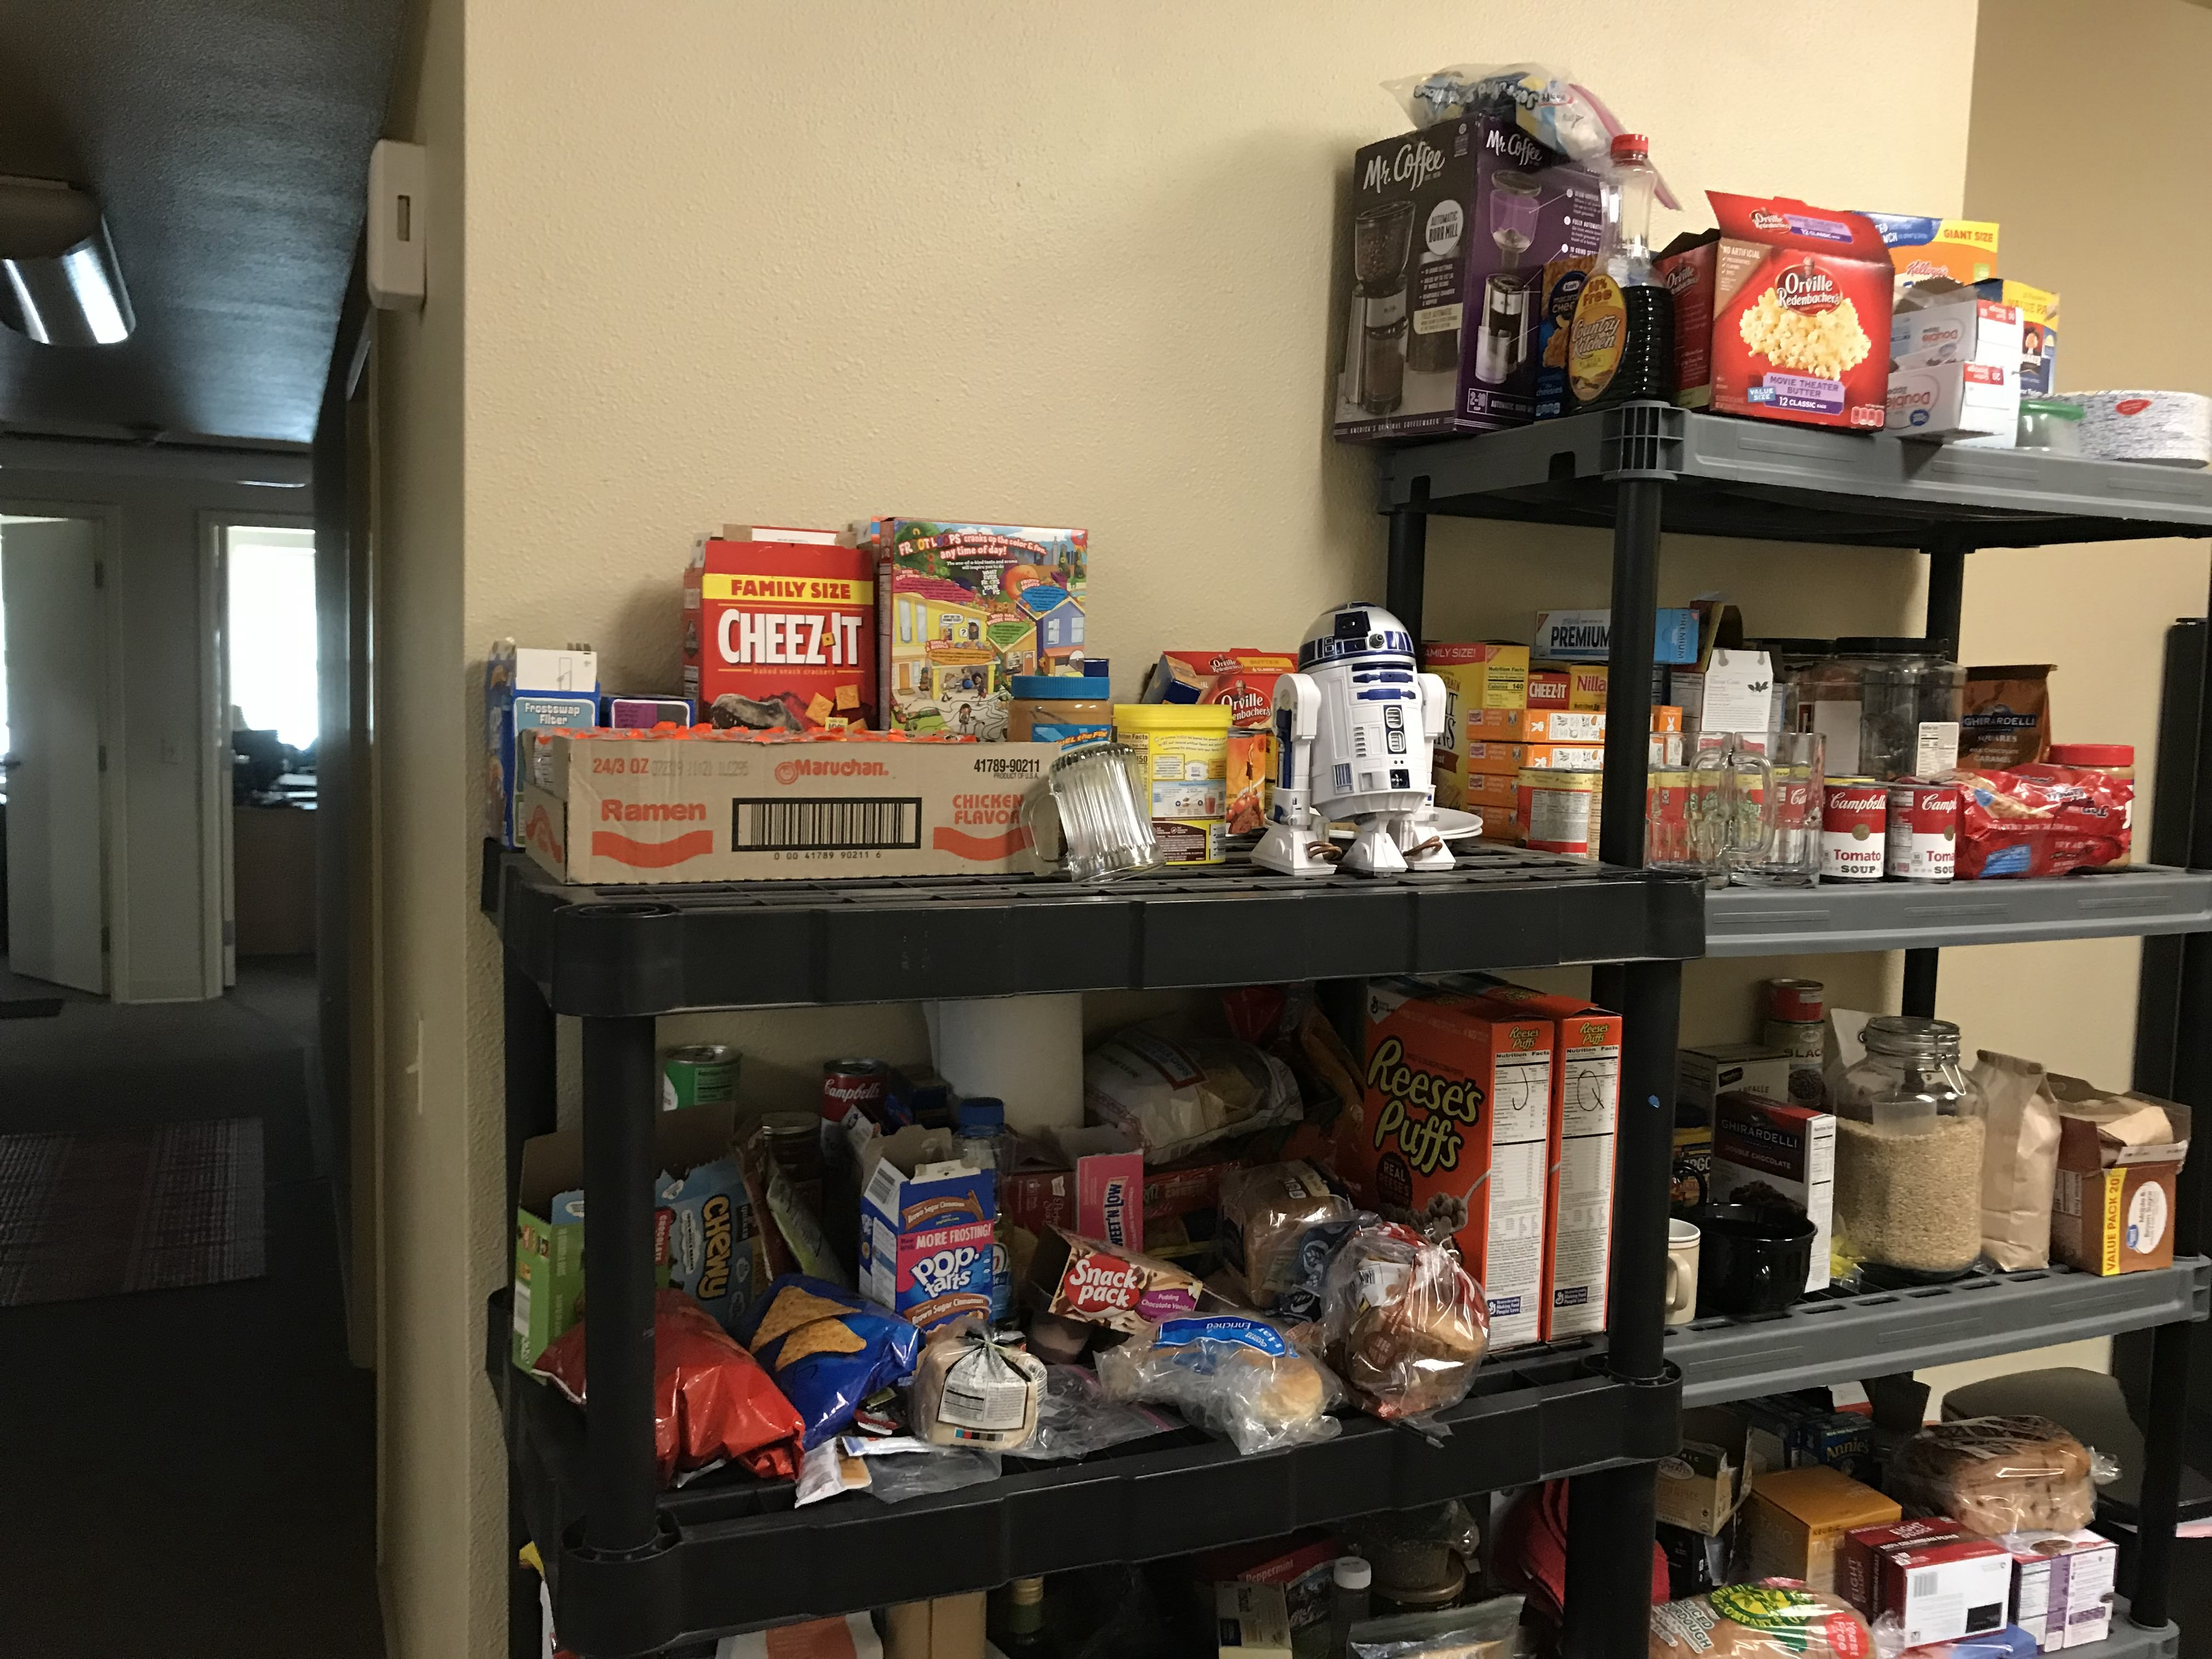r2d2: (1249, 601, 1458, 871)
